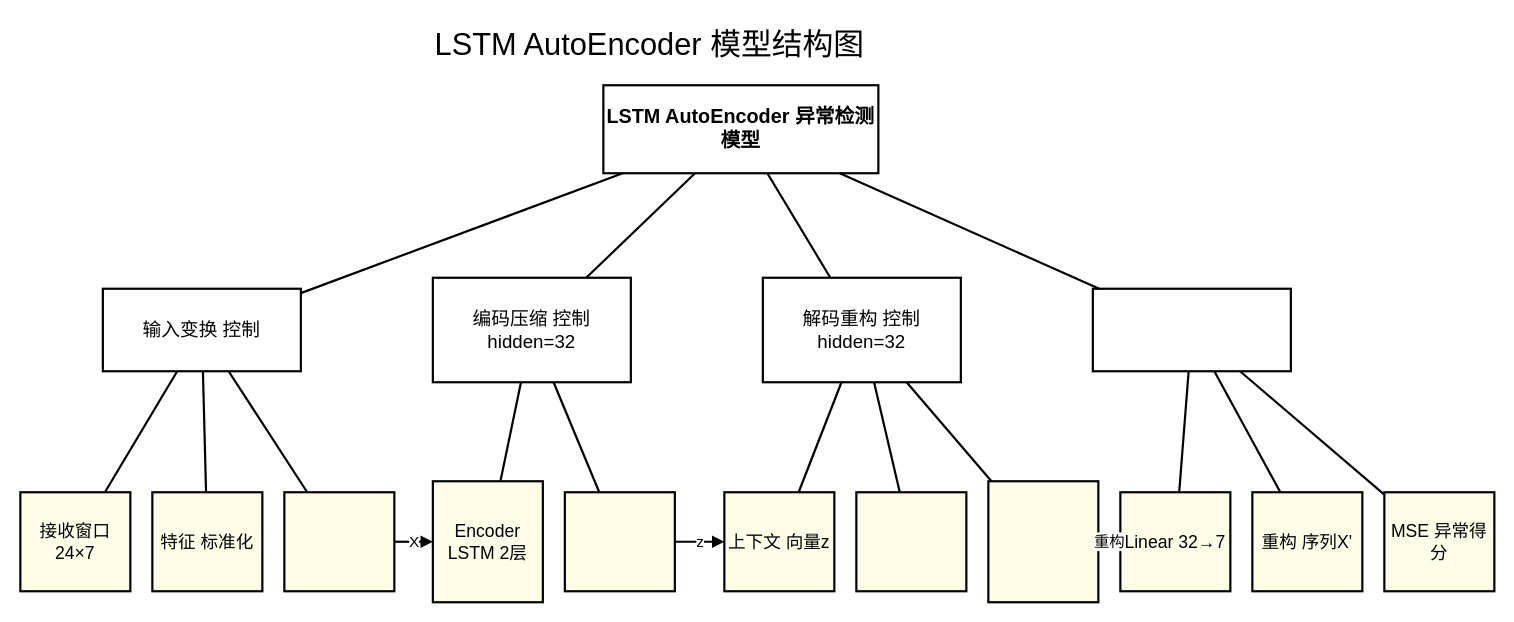
Some shapes in this 1514 by 622 pixel diagram are drawn without their labels. The centre of each missing label's shape, as x and y in pixels:
Decoder LSTM 2层: point (1043, 541)
构造批次 batch: point (339, 541)
误差评分 控制: point (1191, 329)
重复 24步: point (911, 541)
隐藏状态 h[-1]: point (619, 541)
